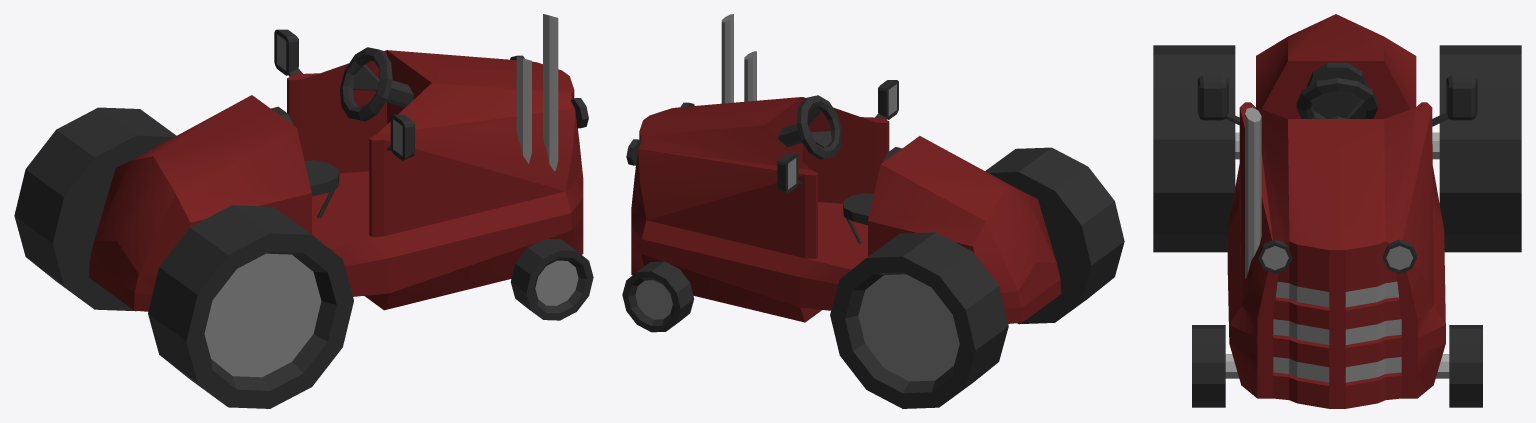
The model's file is tractor_EXPORT.fbx.
3 views of the same model, side by side, from view 1: azimuth 30°, elevation 25°; view 2: azimuth 150°, elevation 25°; view 3: azimuth 270°, elevation 25° (orthographic). The views are drawn at different scales.
Parts seen in each view (by area): view 1: pCylinder13; view 2: pCylinder13; view 3: pCylinder13.
Part boxes in pixels (x1,y1,x2,y2): pCylinder13: (14, 14, 593, 408); pCylinder13: (622, 14, 1124, 408); pCylinder13: (1153, 14, 1521, 408).
Size of the model in its own units: 13.87 by 8.05 by 8.87.
